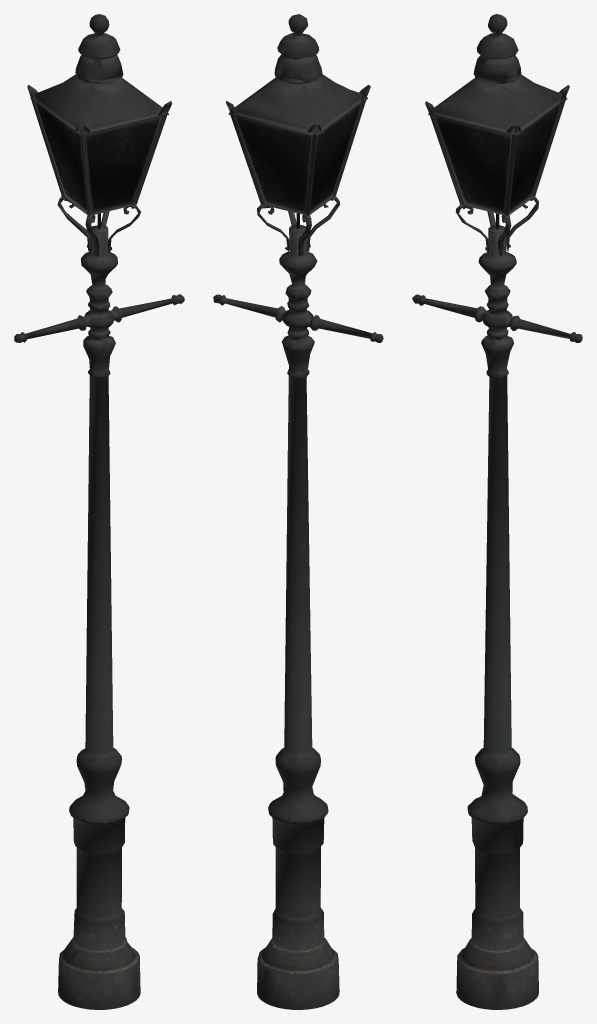
File: street-lamp-01.glb
3 views of the same model, side by side, from view 1: azimuth 30°, elevation 25°; view 2: azimuth 150°, elevation 25°; view 3: azimuth 330°, elevation 25° (orthographic).
Parts seen in each view (by area): view 1: street_lamp_01; view 2: street_lamp_01; view 3: street_lamp_01.
Part boxes in pixels (x1=…): street_lamp_01: x1=14, y1=14, x2=184, y2=1009; street_lamp_01: x1=213, y1=14, x2=383, y2=1009; street_lamp_01: x1=412, y1=14, x2=582, y2=1009.
Size of the model in its own units: 0.7034 by 3.87 by 0.3855.
2 materials, 2 textured.
